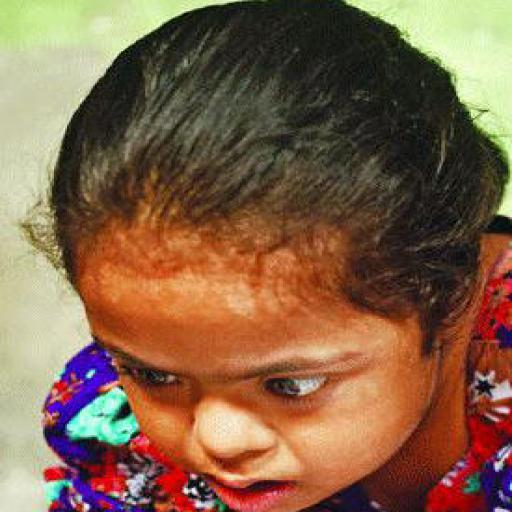Autism: (15, 78, 480, 498)
